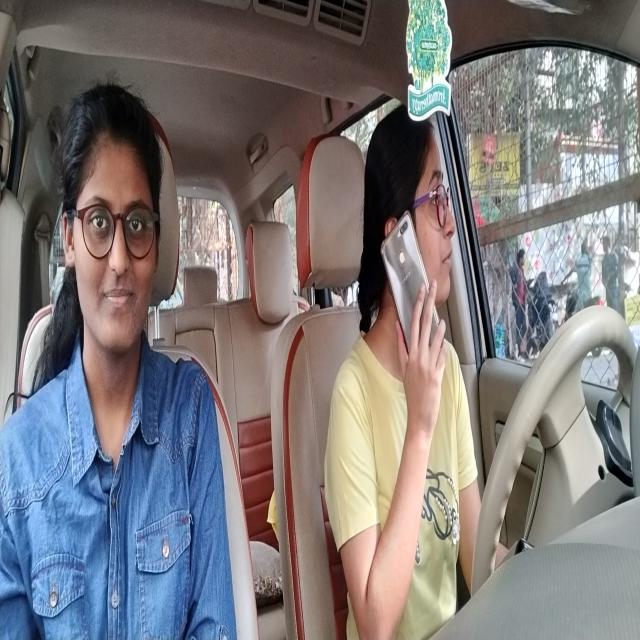mobile: (382, 210, 444, 380)
person: (59, 80, 164, 384), (364, 99, 456, 365)
